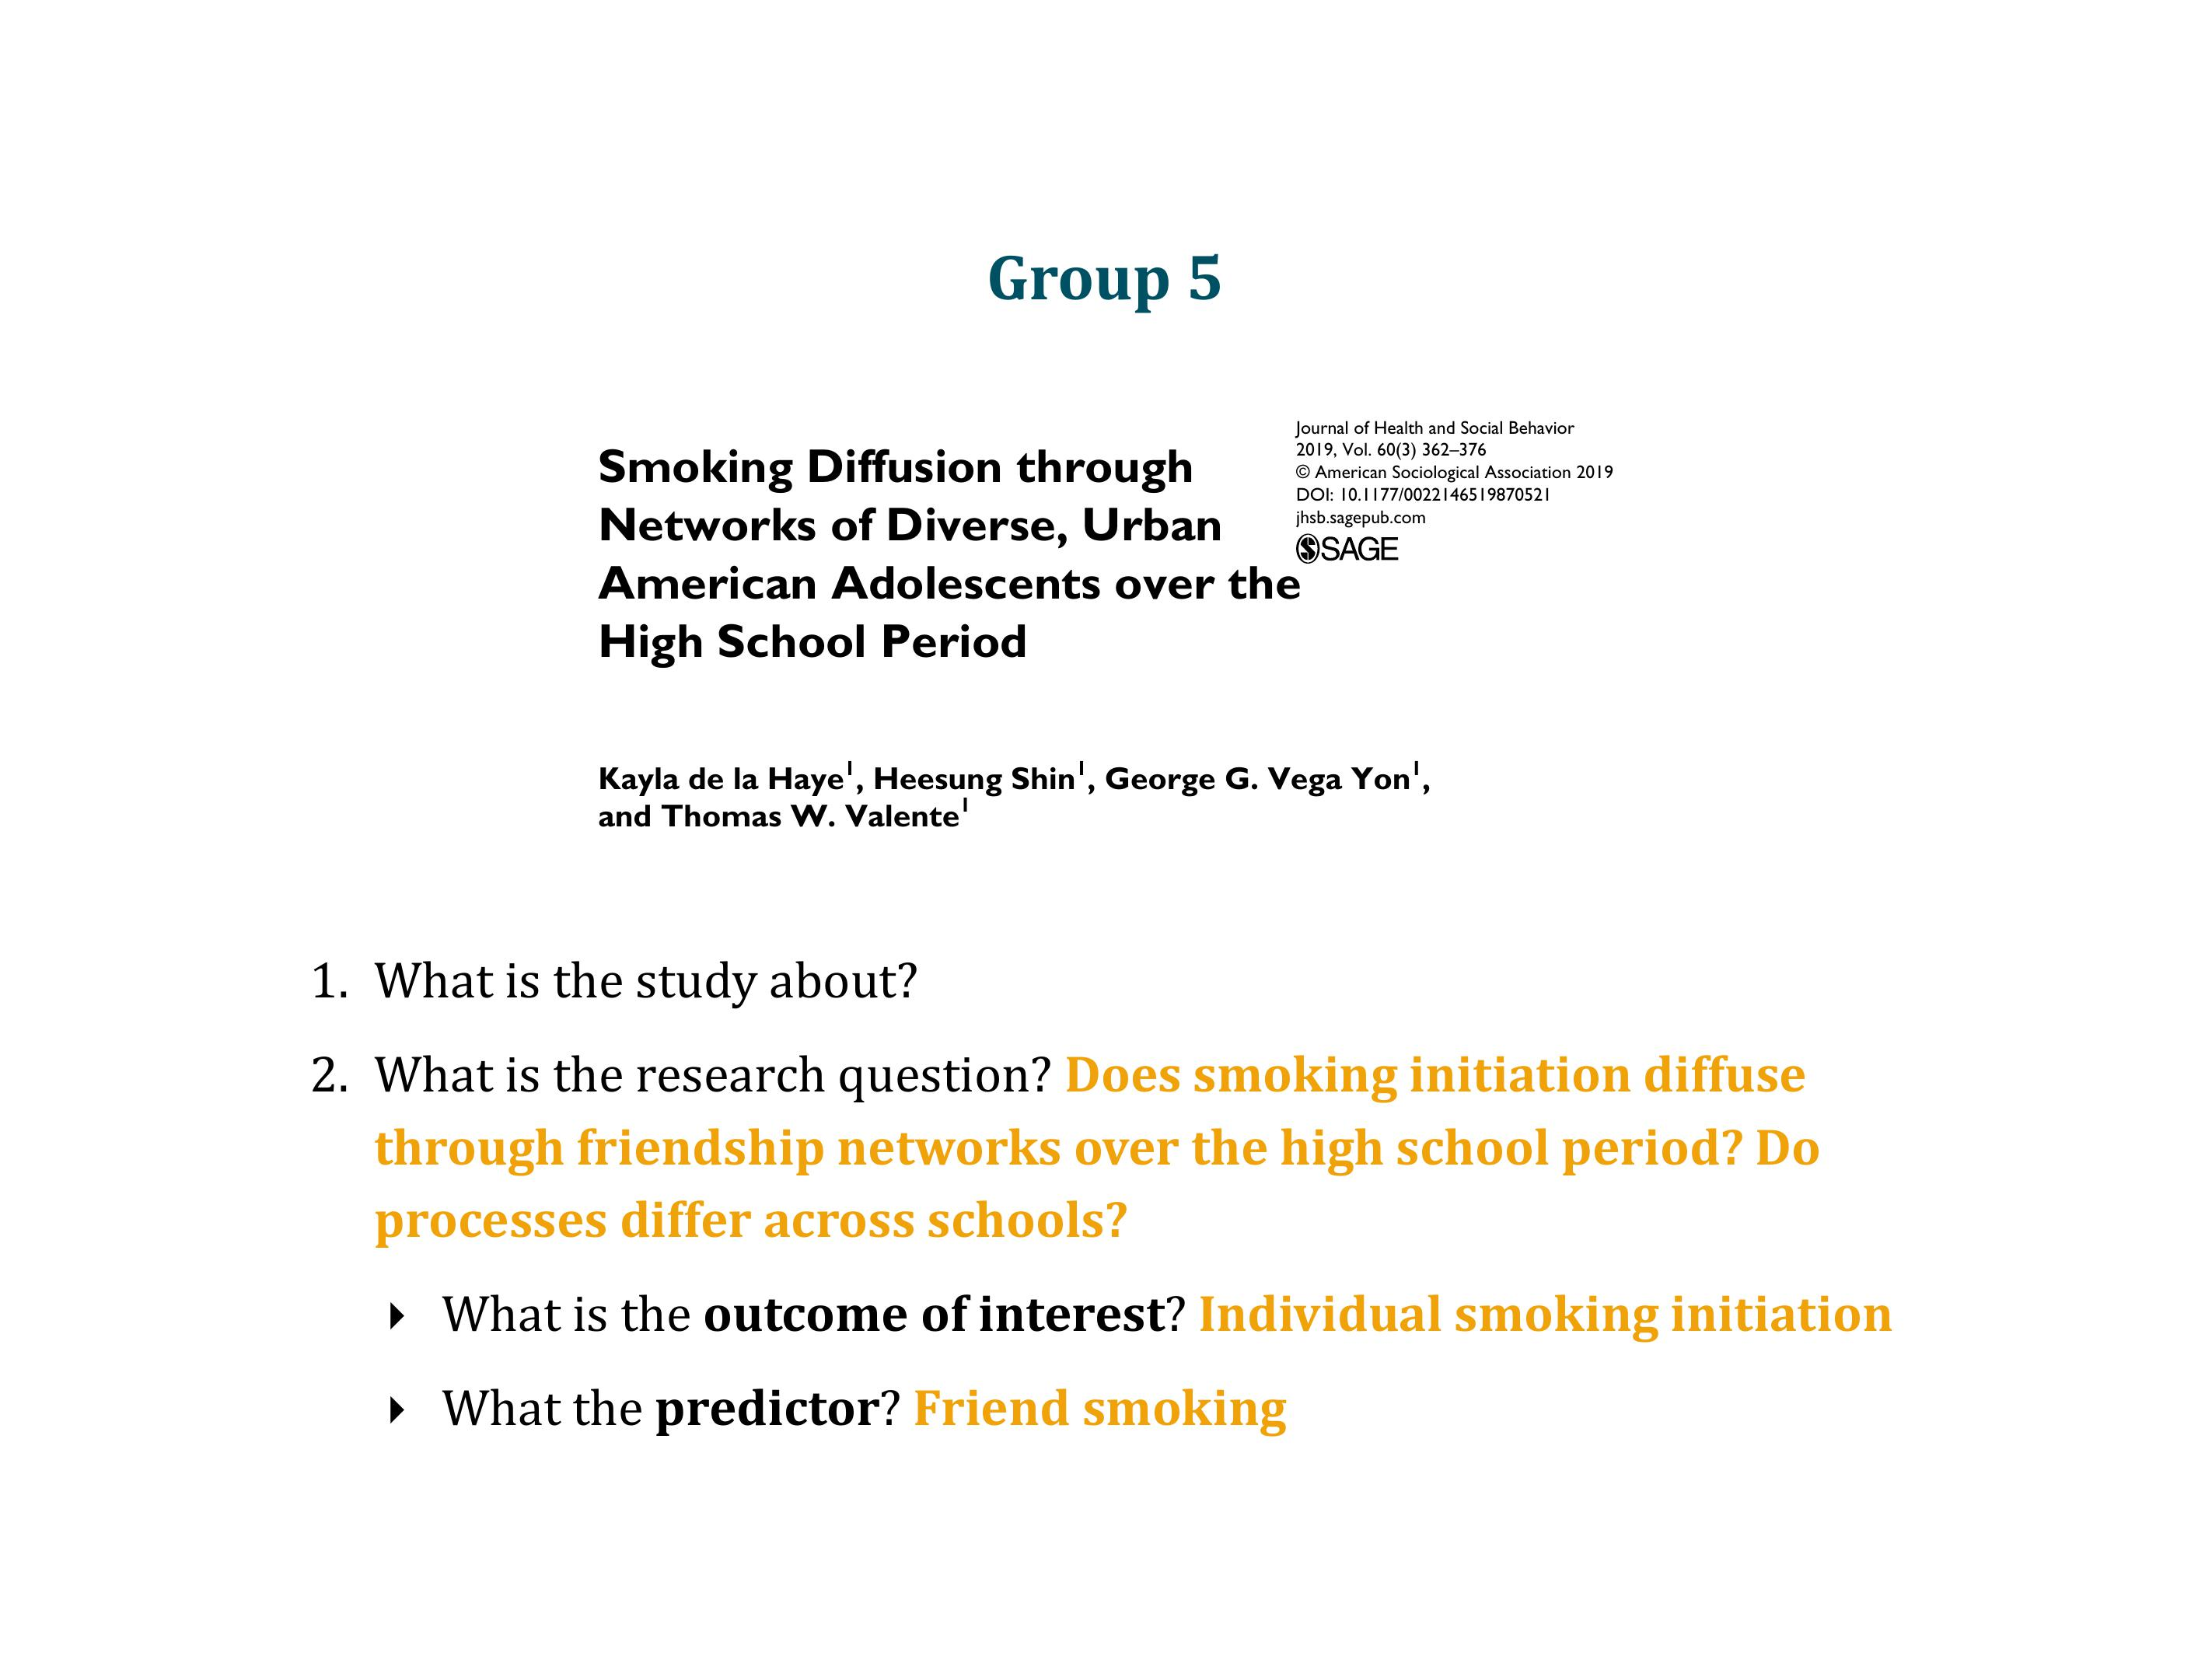Title: (962, 228, 1241, 322)
